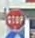stop: (5, 8, 25, 30)
